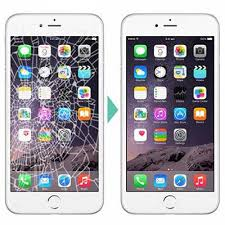iphone: (3, 11, 106, 216), (118, 11, 221, 216)
iphone6: (116, 10, 219, 215), (3, 8, 106, 213)
